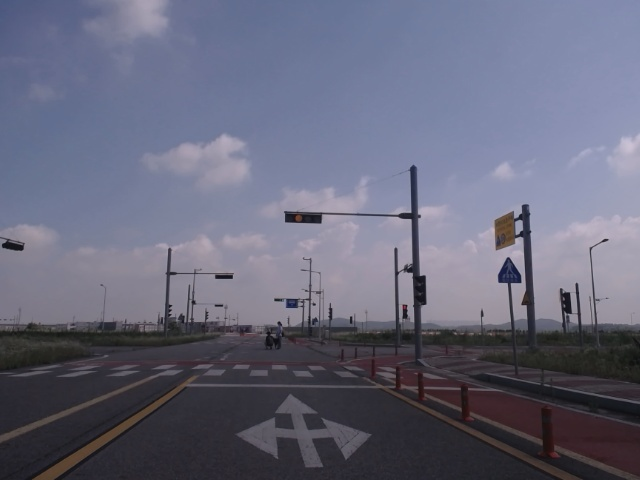orange_4: (283, 212, 323, 225)
